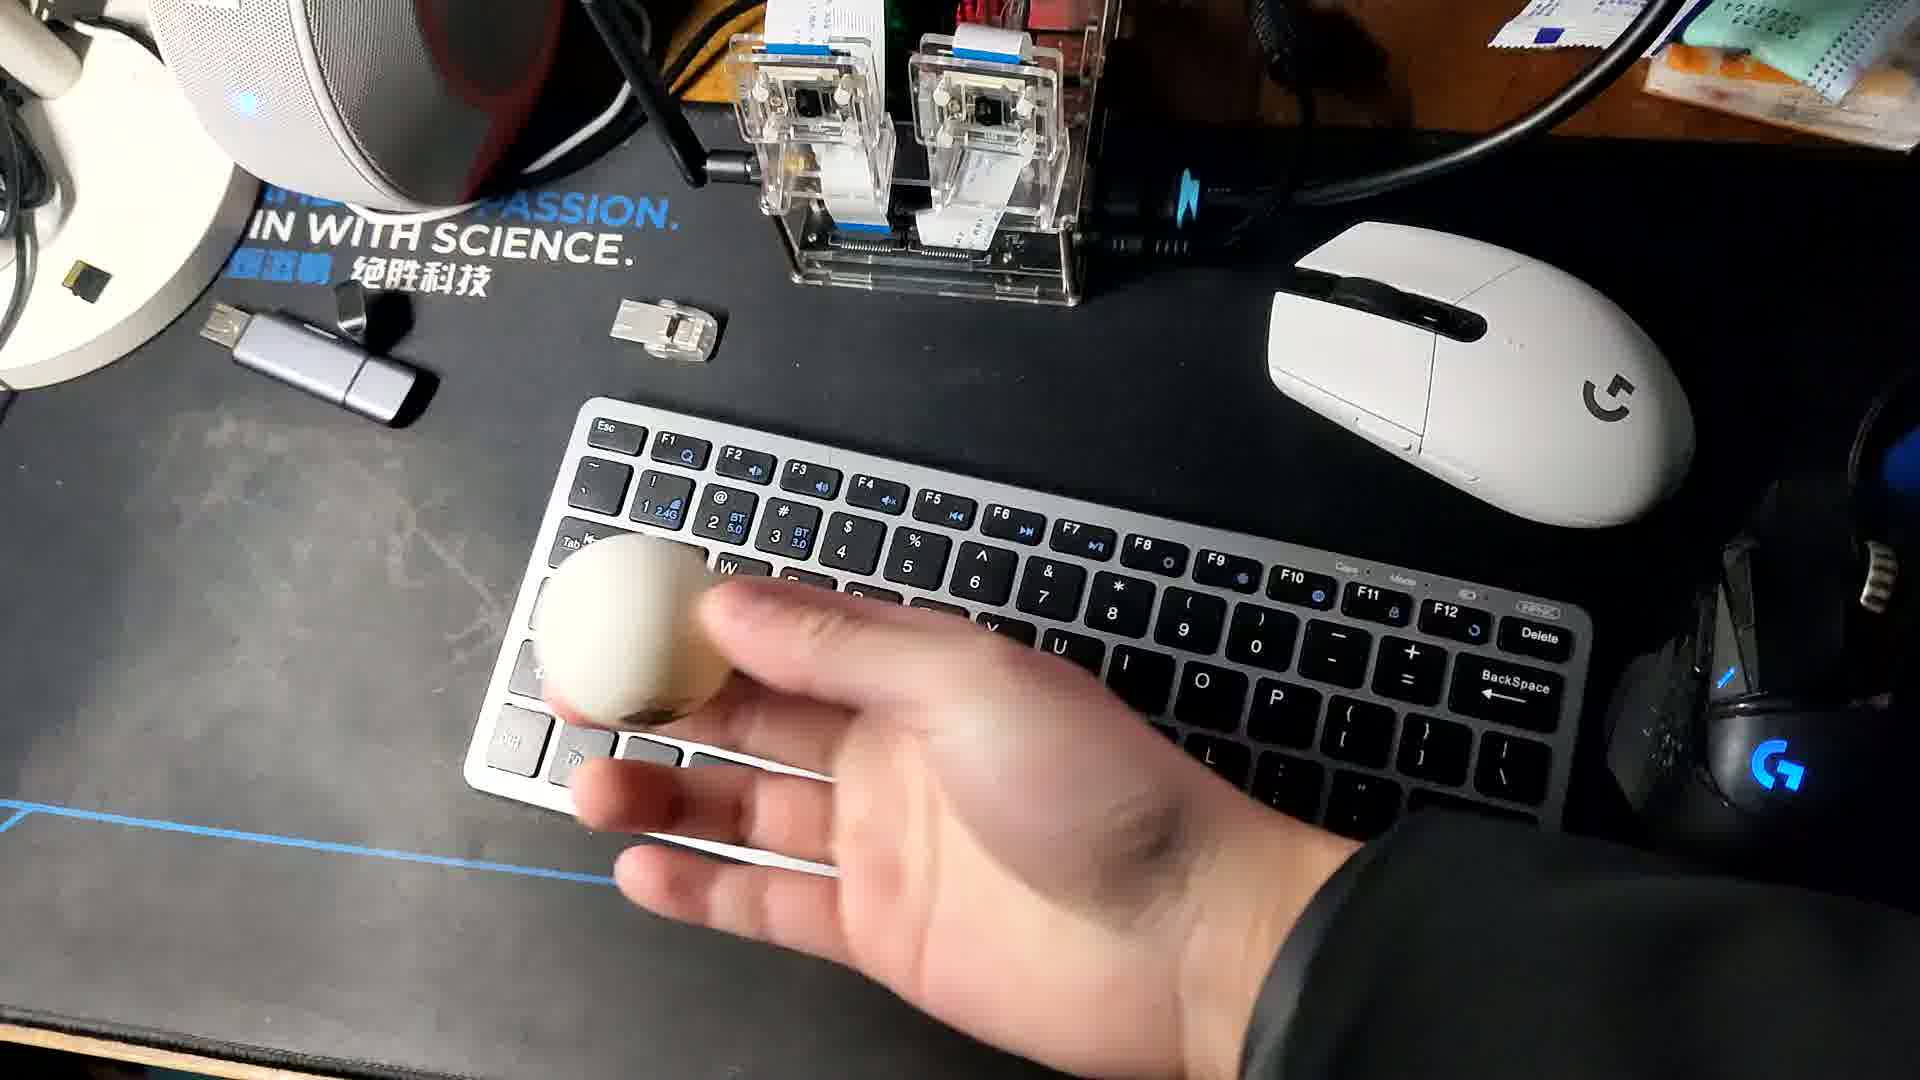Ball: (533, 535, 746, 738)
